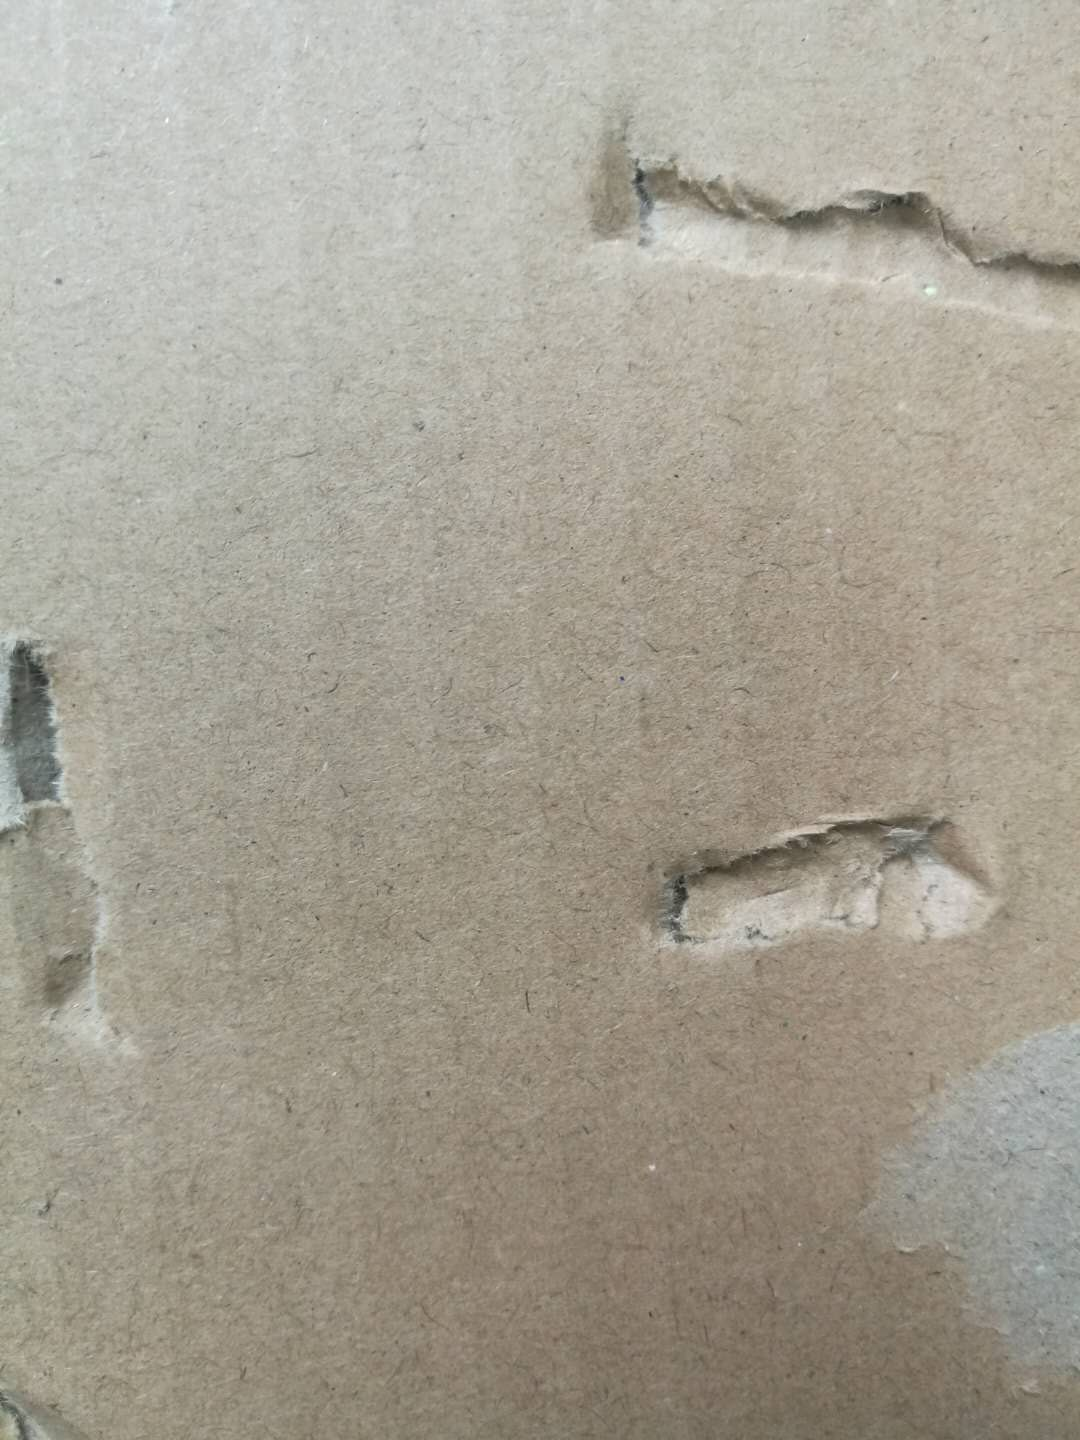defect: (557, 81, 1080, 372), (839, 998, 1080, 1428), (2, 592, 162, 1082), (628, 785, 1028, 975), (1, 1362, 98, 1440)
